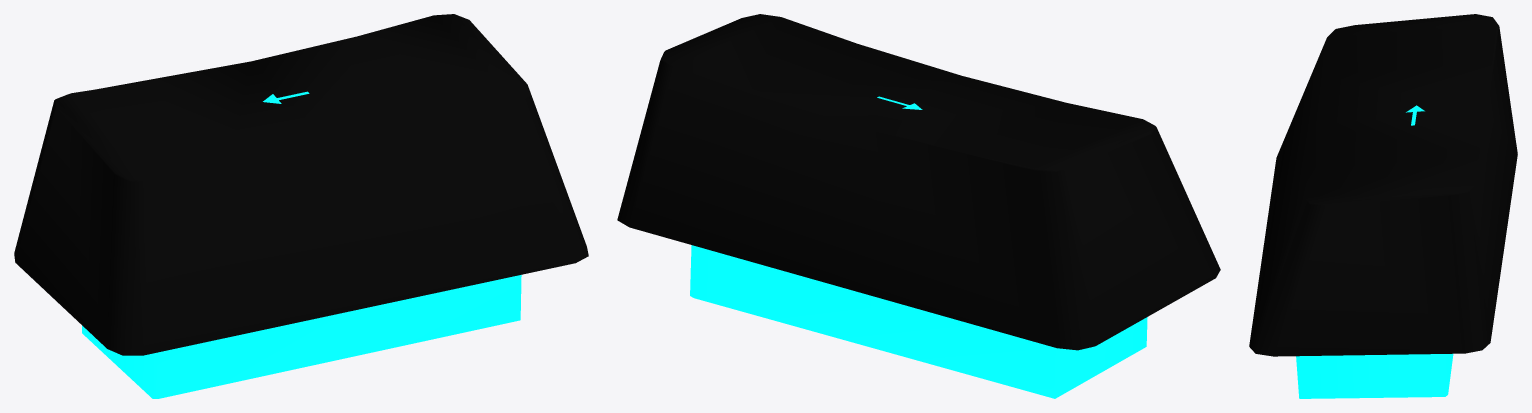
Rendered from key_backspace-BsE56MNI.glb.
The picture shows the model from 3 angles, left to right: view 1: azimuth 30°, elevation 25°; view 2: azimuth 150°, elevation 25°; view 3: azimuth 270°, elevation 25°; orthographic projection. The views are drawn at different scales.
Parts seen in each view (by area): view 1: StudyShelf_1230; view 2: StudyShelf_1230; view 3: StudyShelf_1230.
Part boxes in pixels (x1,y1,x2,y2): StudyShelf_1230: (14, 14, 588, 398); StudyShelf_1230: (617, 14, 1220, 398); StudyShelf_1230: (1249, 14, 1517, 398).
Size of the model in its own units: 8.77 by 4.16 by 4.62.
